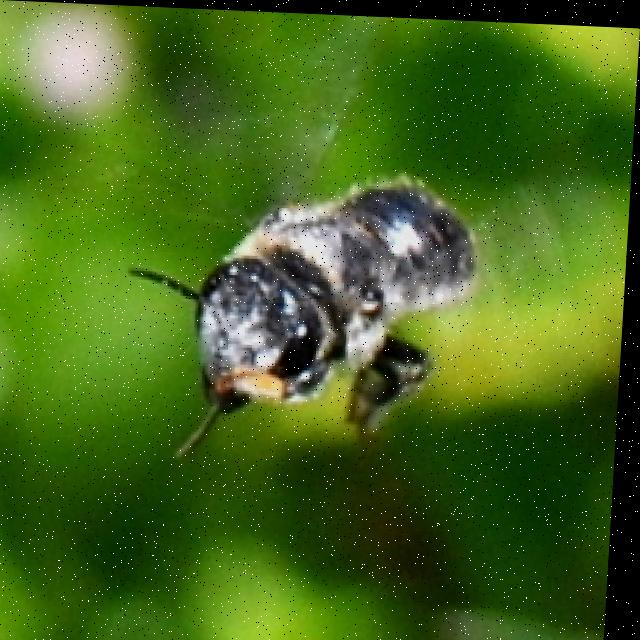Allodapula: (119, 89, 504, 484)
